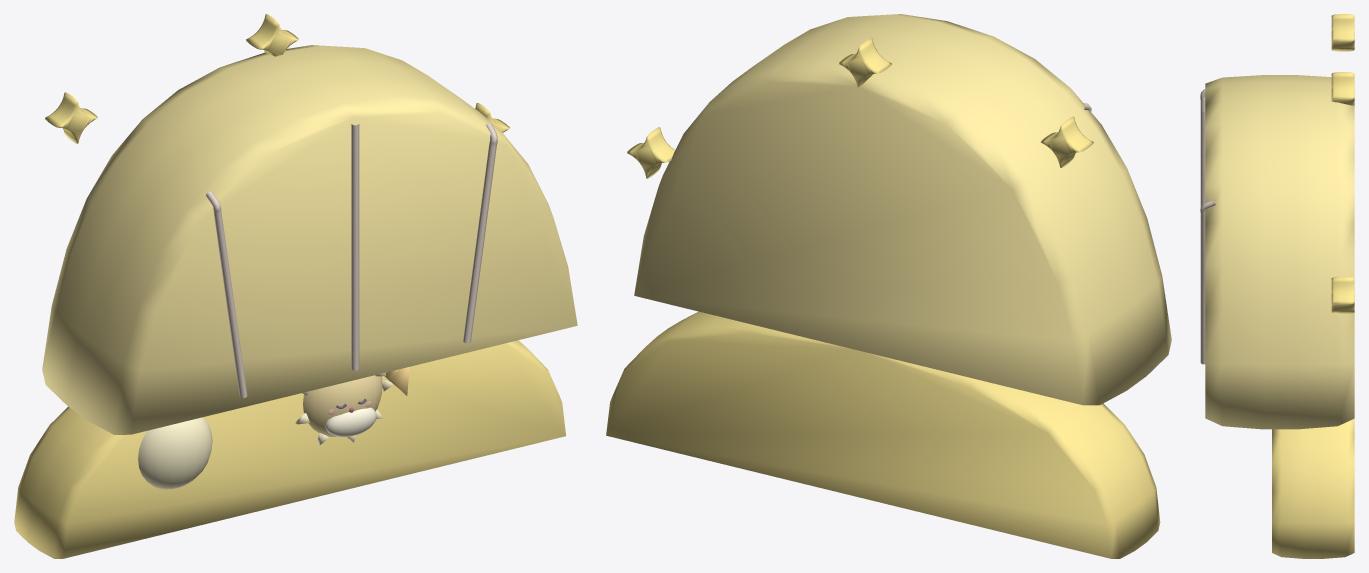
Rendered from decor_1_star.glb.
3 renders of one model, left to right at view 1: azimuth 30°, elevation 25°; view 2: azimuth 150°, elevation 25°; view 3: azimuth 270°, elevation 25°, orthographic. The views are drawn at different scales.
Visible parts, largest first — view 1: decor_1_star; view 2: decor_1_star; view 3: decor_1_star.
Boxes of the visible parts, x1,y1,x2,y2 form: decor_1_star: (14, 14, 577, 558); decor_1_star: (606, 14, 1171, 558); decor_1_star: (1200, 14, 1354, 558).
Bounding box in the file's own units: 18.37 × 15.53 × 5.7.
